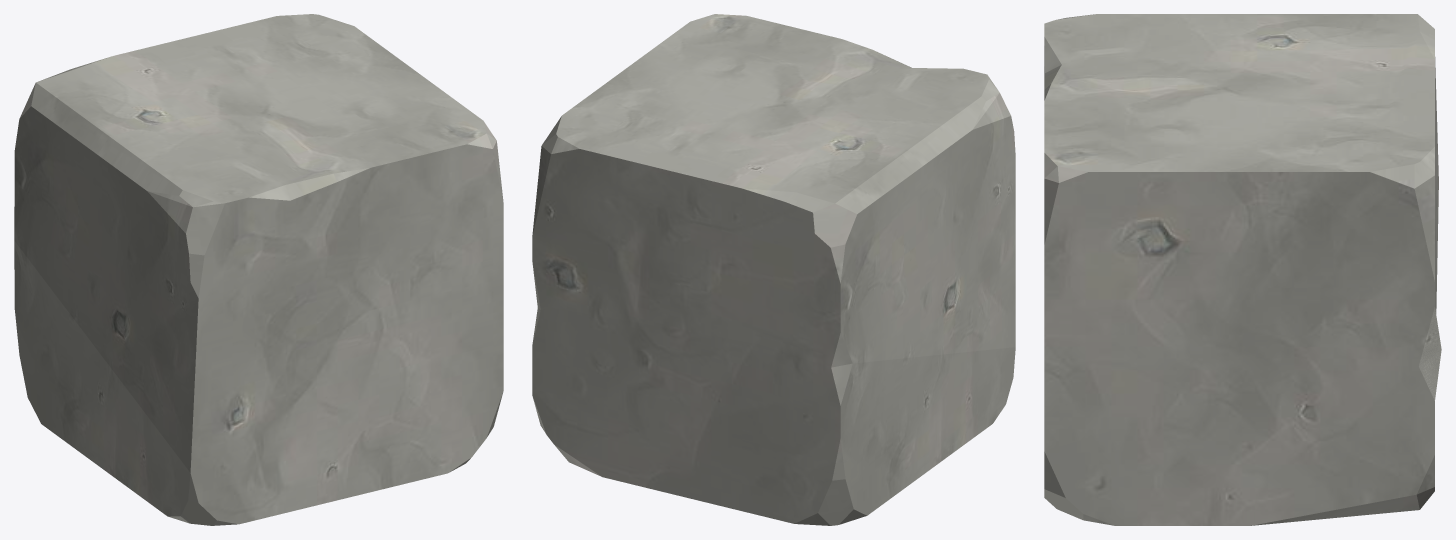
File: WhiteTpWall.fbx
3 views of the same model, side by side, from view 1: azimuth 30°, elevation 25°; view 2: azimuth 150°, elevation 25°; view 3: azimuth 270°, elevation 25° (orthographic). The views are drawn at different scales.
Visible parts, largest first — view 1: Cube.004; view 2: Cube.004; view 3: Cube.004.
Boxes of the visible parts, x1,y1,x2,y2 form: Cube.004: (14,14,503,525); Cube.004: (532,14,1015,525); Cube.004: (1044,14,1441,525).
Bounding box in the file's own units: 205 × 202 × 203.
